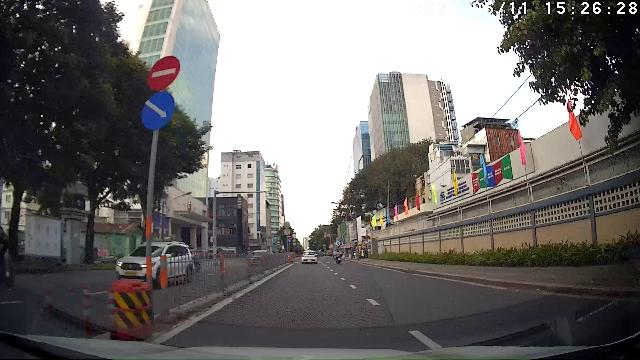102-cam-di-nguoc-chieu: (147, 55, 180, 90)
302a-huong-phai-di-vong-chuong-ngai-vat-1: (142, 90, 174, 130)
